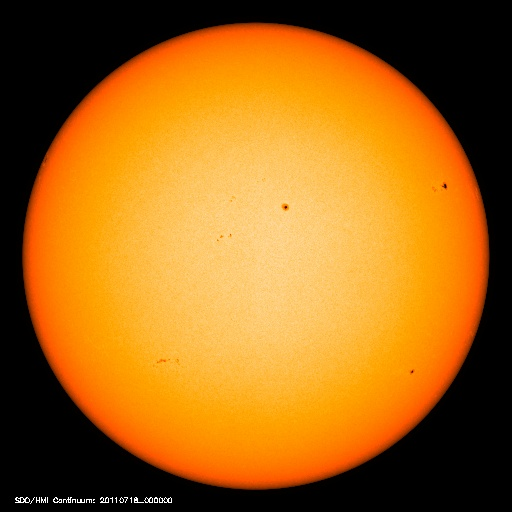sunspot: (212, 189, 248, 250), (146, 347, 186, 375), (265, 193, 302, 223), (395, 359, 429, 385), (423, 174, 453, 199)
